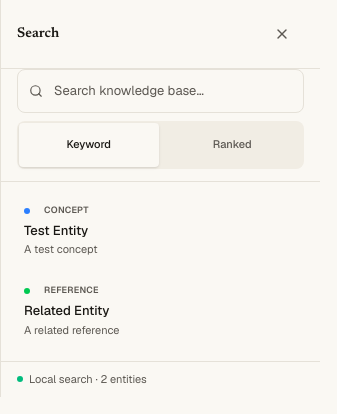
Test: RightPanel branch coverage › SearchPanel ranked mode › renders ranked result without meta when target unresolved
Click the button "Ranked" at (232, 145), box [162, 123, 302, 167]
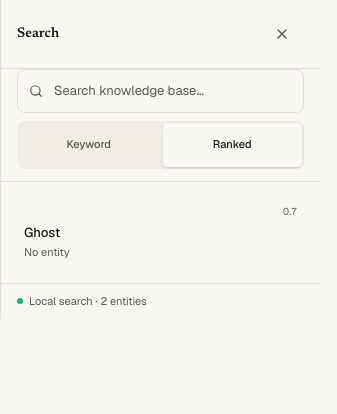
Expected: the text "Ghost" is shown, [24, 224, 60, 241]
Expected: the button "Concept" is gone
